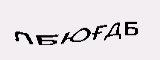Б: (33, 30, 60, 49), (122, 19, 139, 37)
Д: (105, 21, 123, 41)
Л: (11, 31, 34, 48)
Ю: (59, 27, 90, 47)
Ғ: (91, 21, 104, 42)
